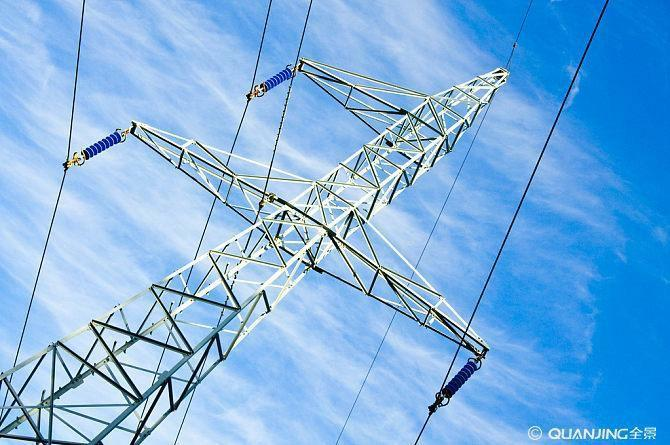power_tower: (0, 53, 523, 445)
